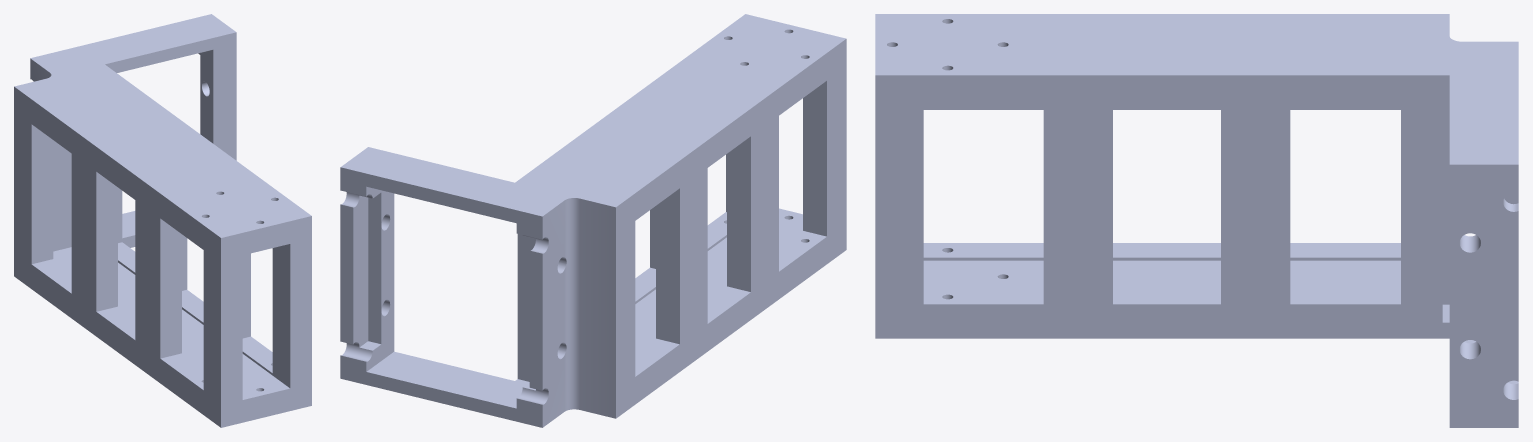
The model's file is c_3_robot_export_clean__body_knee_bracket_v2_1.dae.
3 renders of one model, left to right at view 1: azimuth 30°, elevation 25°; view 2: azimuth 150°, elevation 25°; view 3: azimuth 270°, elevation 25°, orthographic. The views are drawn at different scales.
Visible parts, largest first — view 1: node0; view 2: node0; view 3: node0.
Boxes of the visible parts, left/top/right/bottom form: node0: left=14, top=14, right=311, bottom=427; node0: left=340, top=14, right=846, bottom=427; node0: left=875, top=14, right=1518, bottom=427.
Bounding box in the file's own units: 0.0515 × 0.042 × 0.093.
